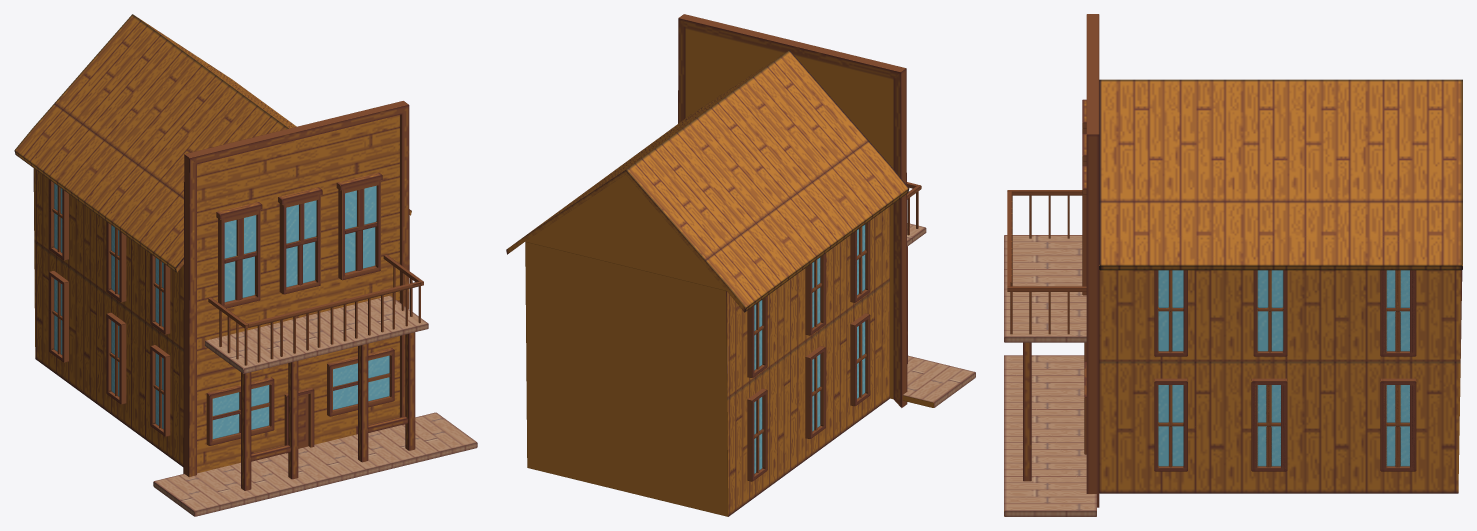
Rendered from Nha_2.fbx.
The picture shows the model from 3 angles, left to right: view 1: azimuth 30°, elevation 25°; view 2: azimuth 150°, elevation 25°; view 3: azimuth 270°, elevation 25°; orthographic projection. The views are drawn at different scales.
Parts seen in each view (by area): view 1: cuboid, cuboid_2, cuboid_1, cuboid_25, cuboid_9, cuboid_16, cuboid_7, cuboid_15, cuboid_14, cuboid_13, cuboid_8, cuboid_11 (+7 smaller); view 2: cuboid, cuboid_2, cuboid_1, cuboid_13, cuboid_14, cuboid_15, cuboid_8, cuboid_11, cuboid_12; view 3: cuboid, cuboid_1, cuboid_2, cuboid_14, cuboid_11, cuboid_13, cuboid_15, cuboid_8, cuboid_12, cuboid_23, cuboid_22, cuboid_24 (+3 smaller).
Part boxes in pixels (x1,y1,x2,y2): cuboid: (14, 14, 411, 466); cuboid_2: (183, 101, 409, 476); cuboid_1: (153, 295, 477, 516); cuboid_25: (216, 172, 382, 308); cuboid_9: (278, 187, 322, 294); cuboid_16: (206, 377, 274, 445); cuboid_7: (327, 348, 394, 416); cuboid_15: (106, 312, 126, 404); cuboid_14: (150, 345, 170, 436); cuboid_13: (49, 270, 68, 362); cuboid_8: (150, 254, 170, 334); cuboid_11: (106, 221, 126, 302); cuboid: (506, 50, 909, 516); cuboid_2: (678, 14, 907, 407); cuboid_1: (902, 223, 975, 407); cuboid_13: (747, 388, 767, 481); cuboid_14: (850, 313, 870, 406); cuboid_15: (805, 346, 825, 438); cuboid_8: (850, 221, 870, 302); cuboid_11: (805, 253, 825, 335); cuboid_12: (747, 296, 767, 377); cuboid: (1099, 79, 1462, 493); cuboid_1: (1004, 235, 1096, 516); cuboid_2: (1086, 14, 1099, 507); cuboid_14: (1154, 378, 1187, 471); cuboid_11: (1253, 270, 1287, 356); cuboid_13: (1382, 378, 1416, 471); cuboid_15: (1253, 378, 1287, 471); cuboid_8: (1154, 270, 1187, 356); cuboid_12: (1382, 270, 1416, 356); cuboid_23: (1380, 378, 1414, 471); cuboid_22: (1251, 378, 1285, 471); cuboid_24: (1380, 270, 1414, 356).
Size of the model in its own units: 1088 by 1216 by 1356.
Materials: 1 (1 with a texture image).
